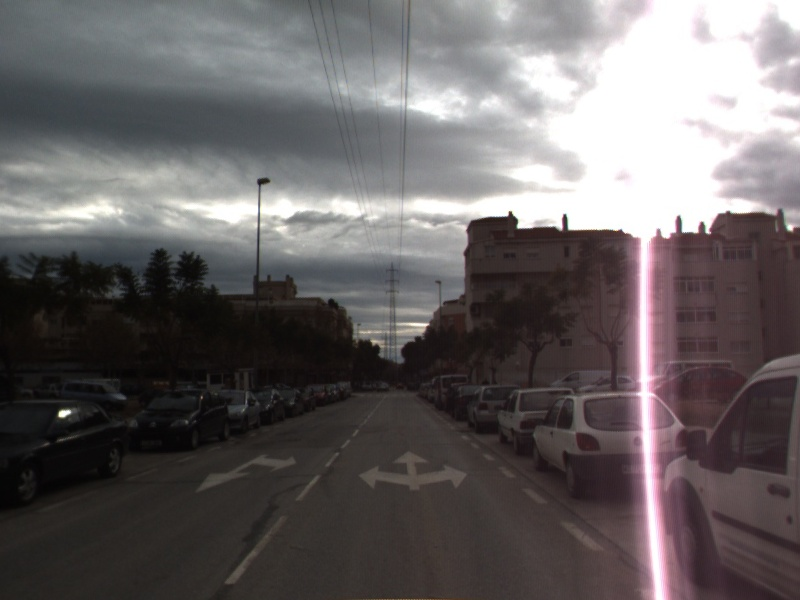STRAIGHT_LEFT_RIGHT: (356, 449, 470, 492)
